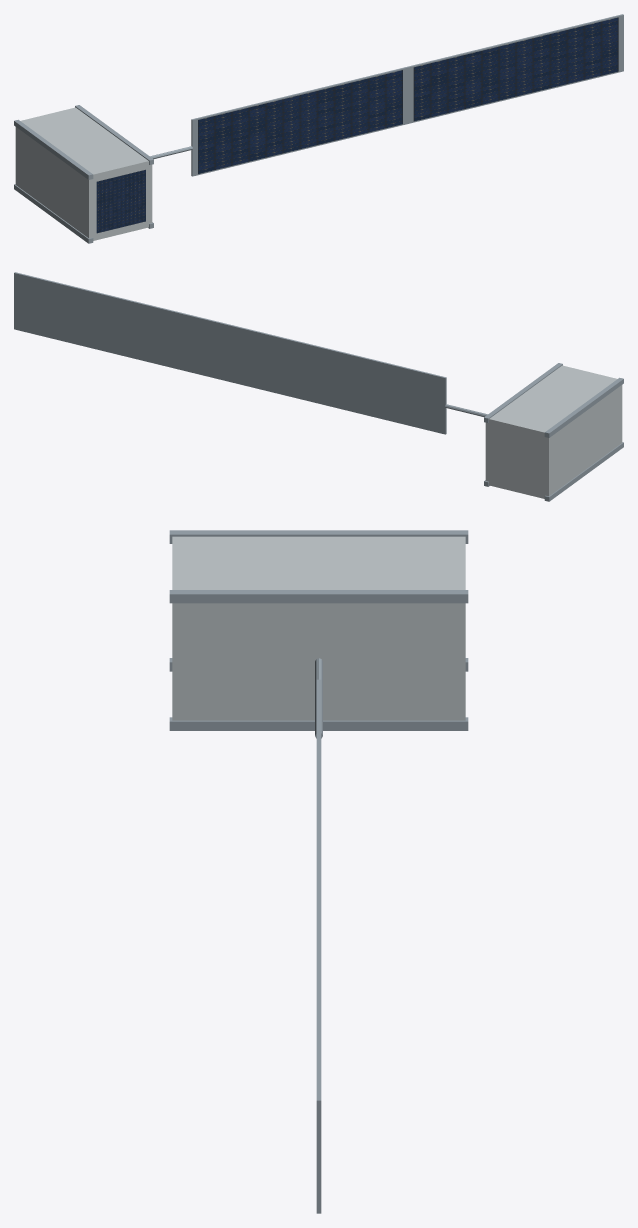
File: ref-cubesat-8u-62610.glb
3 views of the same model, one above another, from view 1: azimuth 30°, elevation 25°; view 2: azimuth 150°, elevation 25°; view 3: azimuth 270°, elevation 25° (orthographic). The views are drawn at different scales.
Parts seen in each view (by area): view 1: Photovoltaic laminates (×2), Spacecraft body, Array frame (×2), Body-mounted cells, Dispenser rail (×3); view 2: Array frame (×2), Spacecraft body, Dispenser rail (×3); view 3: Spacecraft body, Dispenser rail (×3), Array frame (×2).
Boxes of the visible parts, x1,y1,x2,y2 form: Photovoltaic laminates (×2): (198,17,618,173); Spacecraft body: (15,107,152,240); Array frame (×2): (191,14,623,176); Body-mounted cells: (96,169,145,233); Dispenser rail (×3): (14,105,153,243); Array frame (×2): (14,272,446,434); Spacecraft body: (485,365,622,498); Dispenser rail (×3): (484,363,623,501); Spacecraft body: (172,536,465,720); Dispenser rail (×3): (169,530,468,730); Array frame (×2): (316,679,321,1213).
Bounding box in the file's own units: 1.8 × 0.206 × 0.408.
Materials: 3 (1 with a texture image).
